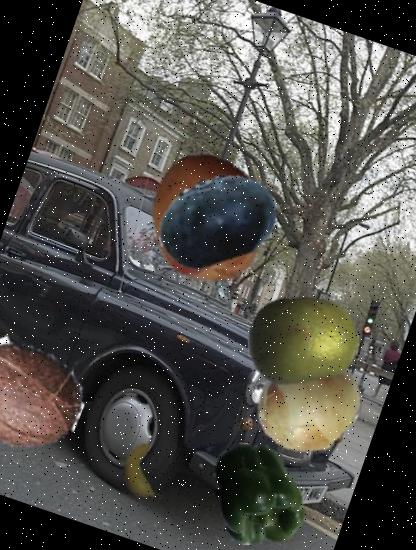Apricot: (125, 134, 292, 302)
Banana: (110, 436, 180, 506)
Blueberry: (139, 142, 295, 298)
Cocos: (0, 308, 102, 469)
Kaki: (0, 349, 48, 446)
Onion: (239, 335, 379, 475)
Pepper: (193, 428, 324, 550)
Pomelo: (233, 270, 374, 412)
